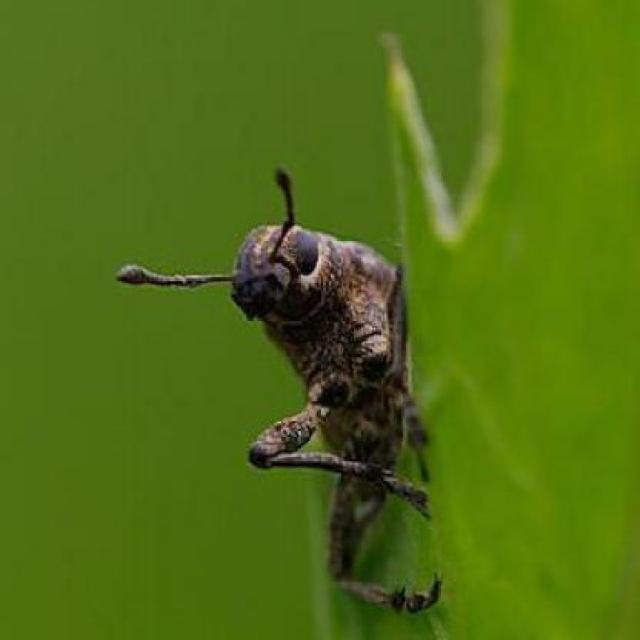rice-bug: (207, 192, 436, 613)
